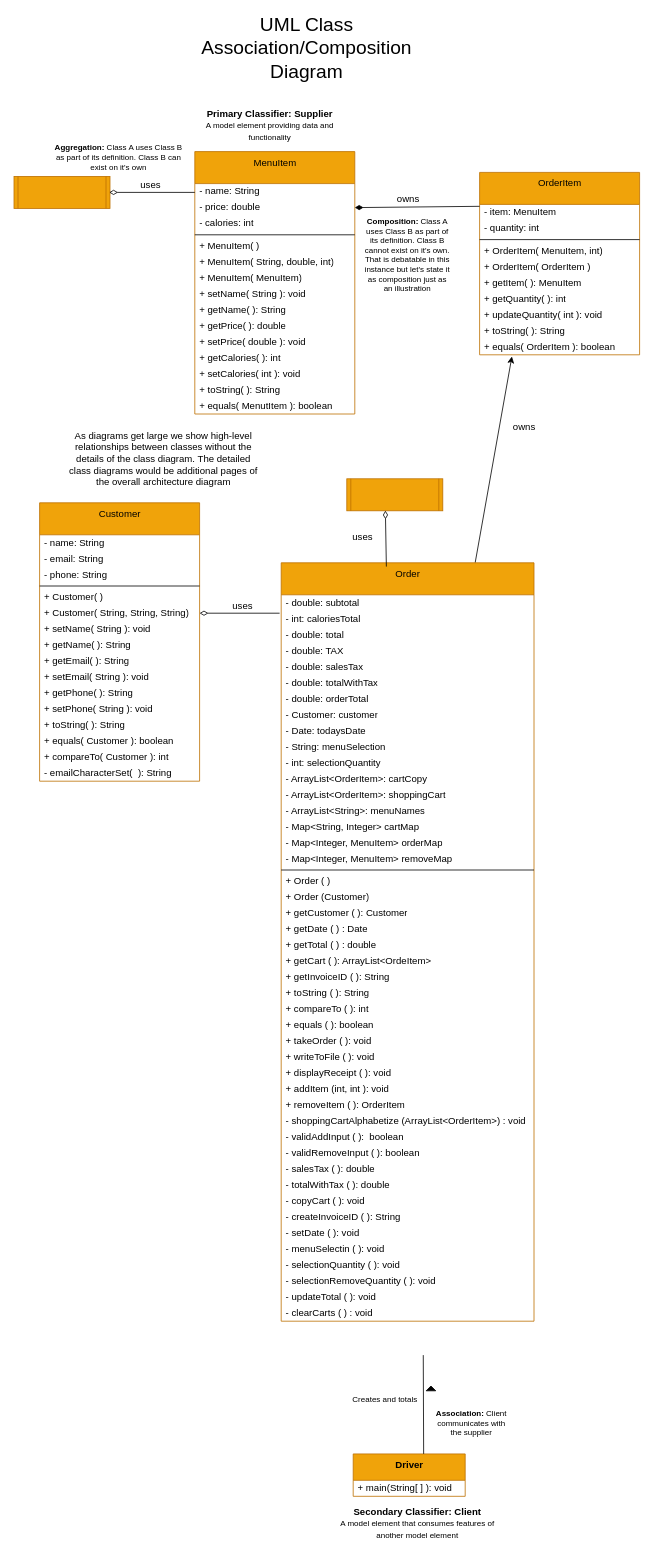
This 654x1554 diagram has some shape labels left out. The shapes that lost their labels are listed below. From the top down, each one's centre as x and y in pixels, then its label:
At [61,192]: "String".
At [394,494]: "Date".
